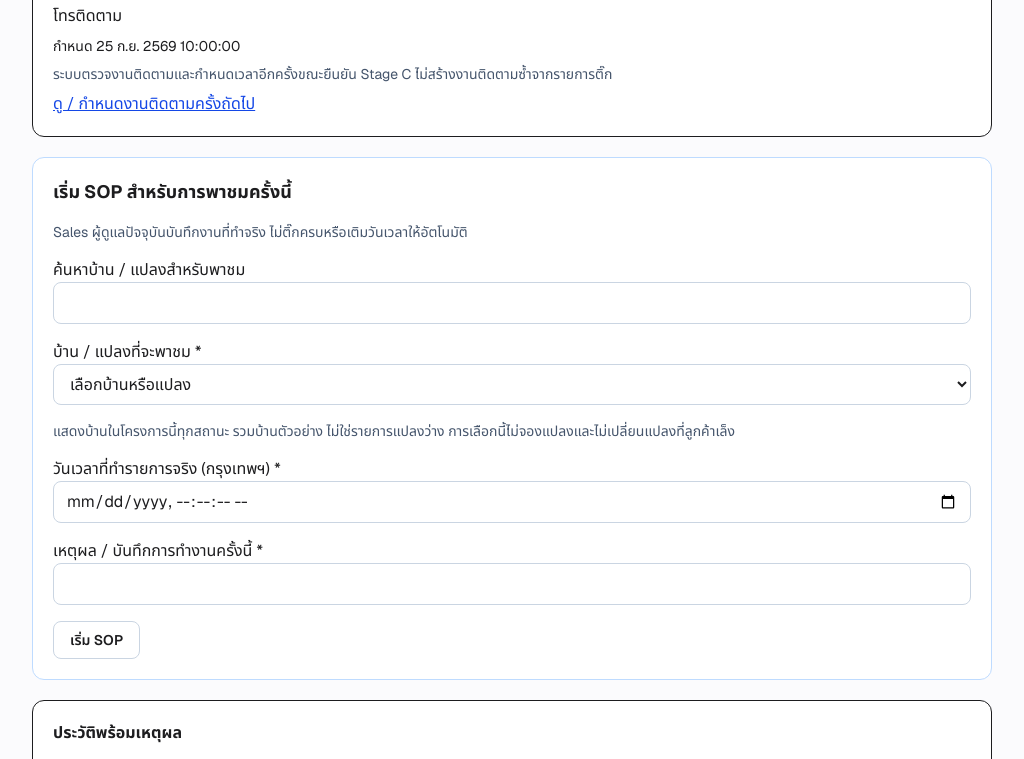
it: SOP workspace and command safety › hides the follow-up link while SOP has an unresolved write
The image size is (1024, 759).
(page scrolled)
Select "บ้านตัวอย่าง A1 · SYNTHETIC-HOUSE" in the dropdown labelled "บ้าน / แปลงที่จะพาชม *" at (512, 384), box [53, 364, 971, 405]
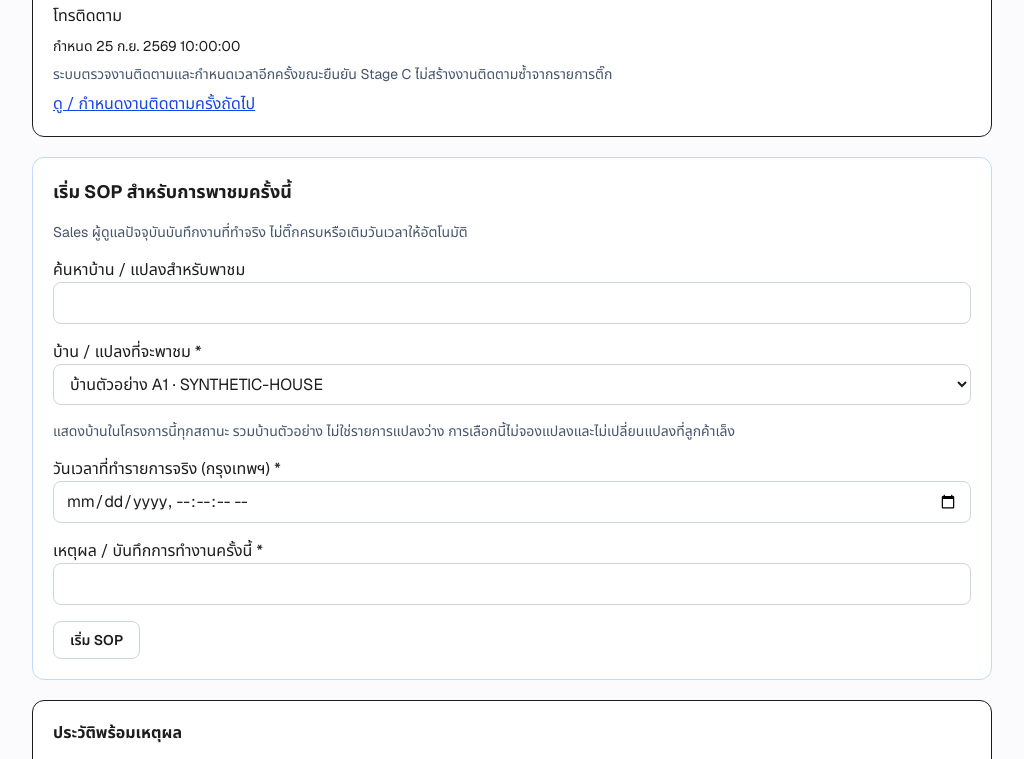
Type "2026-09-24T12:00:00" into the field labelled "วันเวลาที่ทำรายการจริง (กรุงเทพฯ) *".
click(512, 502); type("2026-09-24T12:00:00")  # box [53, 481, 971, 523]
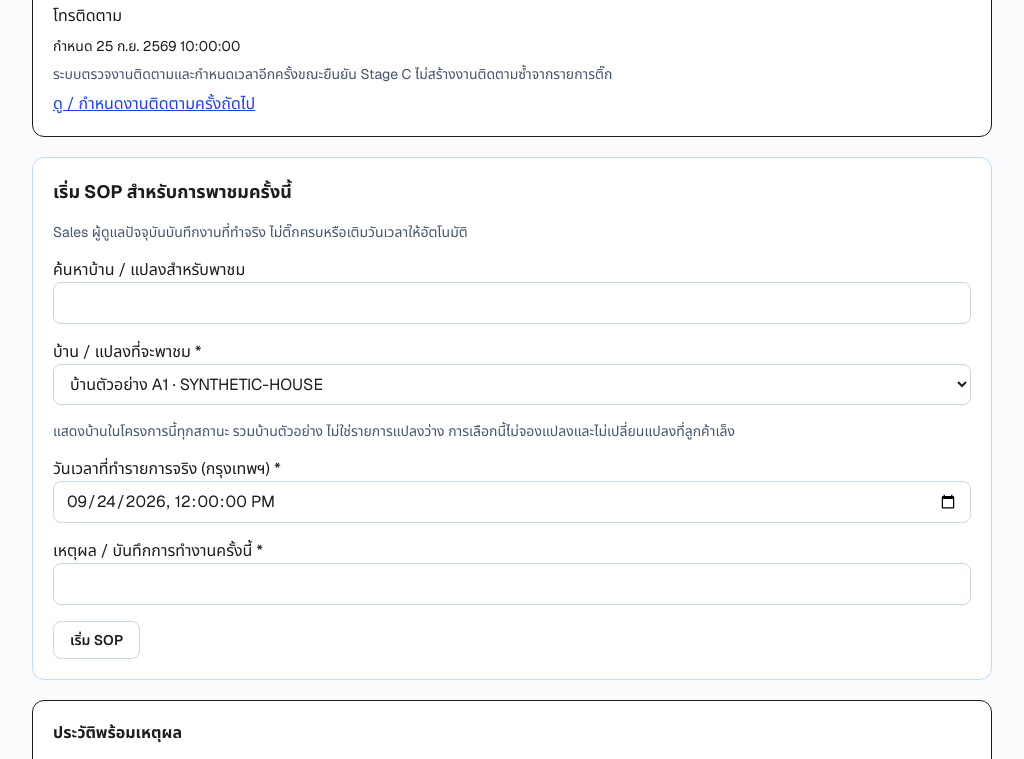
Type "ทำตามจริง" into the field labelled "เหตุผล / บันทึกการทำงานครั้งนี้ *".
click(512, 584); type("ทำตามจริง")  # box [53, 563, 971, 605]
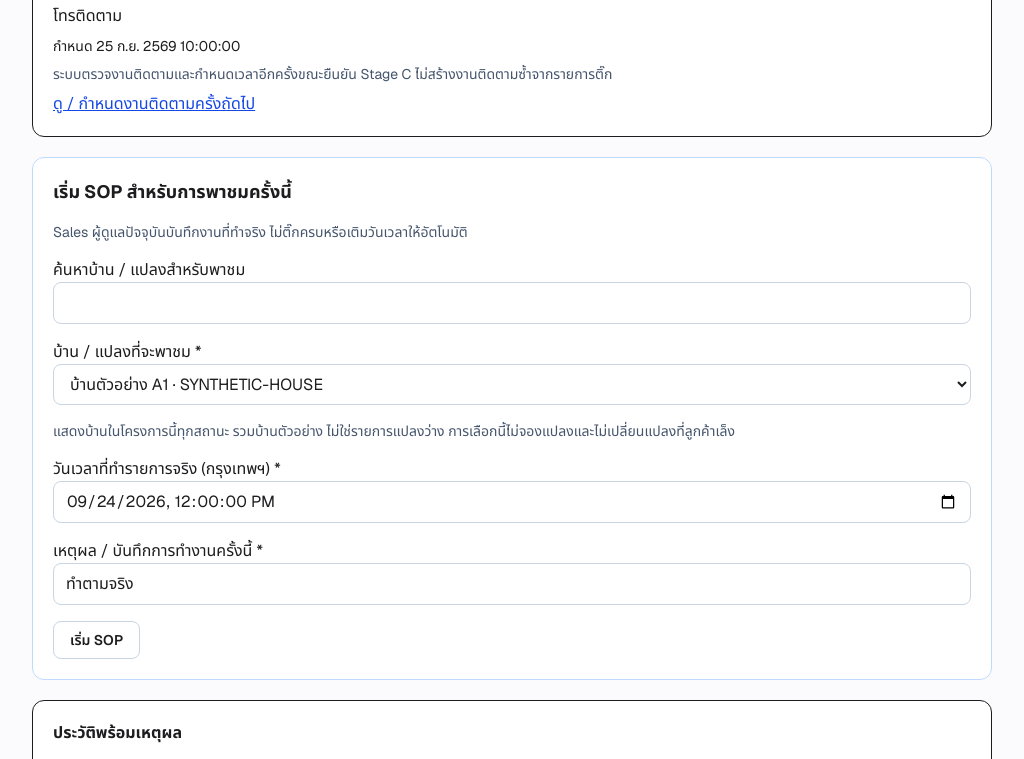
Submit the form named "บันทึก SOP พาชม"
(page scrolled)
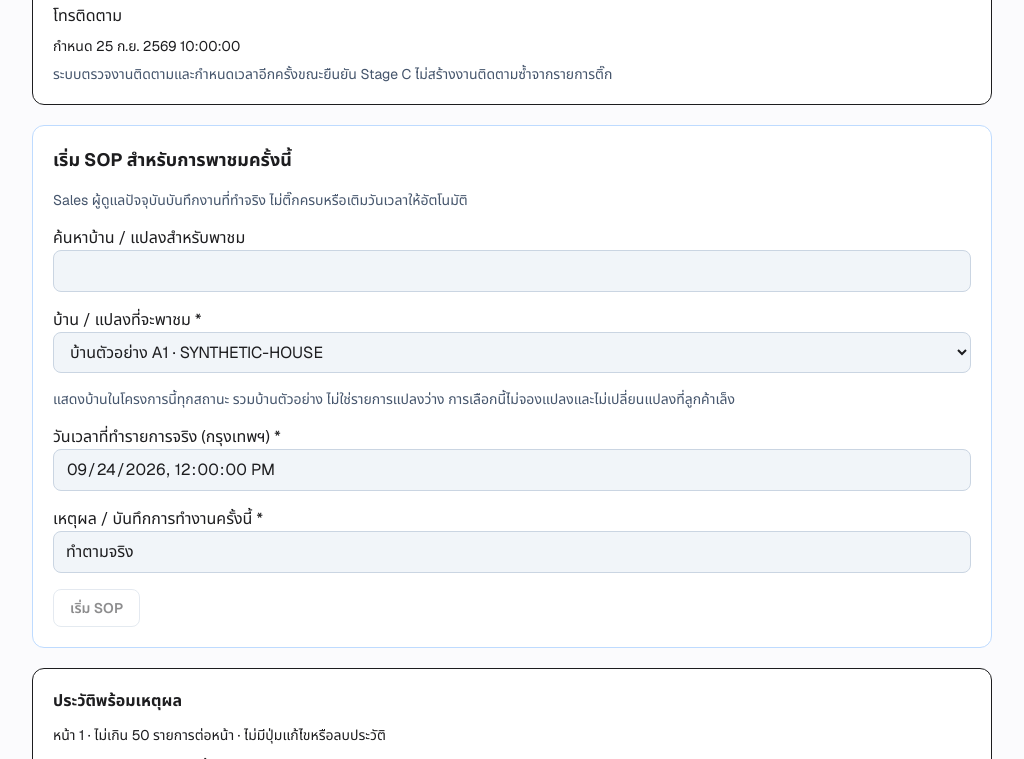
Result: the link "ดู / กำหนดงานติดตามครั้งถัดไป" is gone
